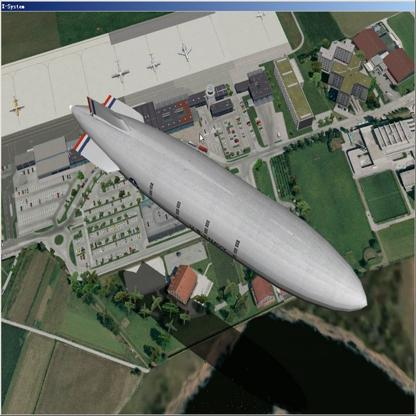Airship: (64, 93, 379, 317)
